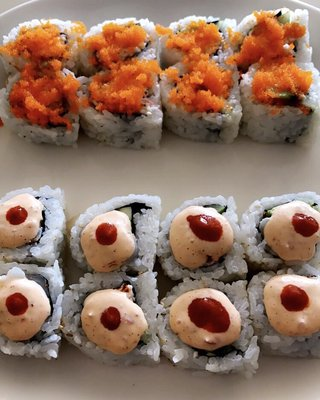salad: (168, 288, 242, 352), (81, 288, 148, 355), (168, 207, 235, 270), (0, 267, 51, 342), (263, 271, 320, 338), (263, 201, 320, 263), (80, 211, 136, 274), (0, 193, 44, 250)
